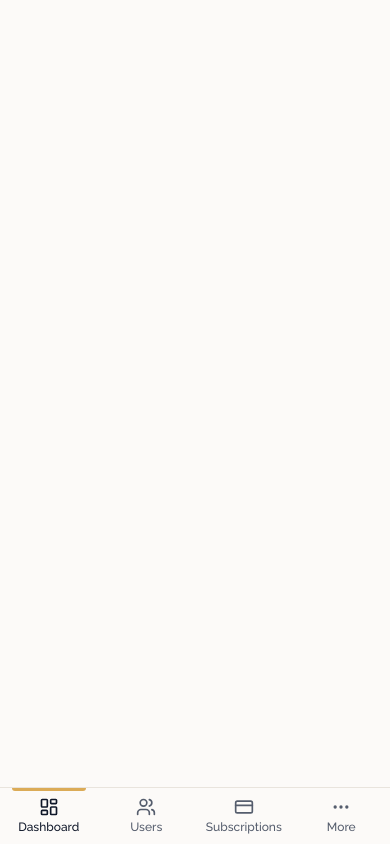
Test: AdminTabBar › opens a dialog listing the remaining items and returns focus to More on Escape
The width and height of the screenshot is (390, 844).
Step 1. Click the button "More" → [341, 816], box [292,788,389,843]
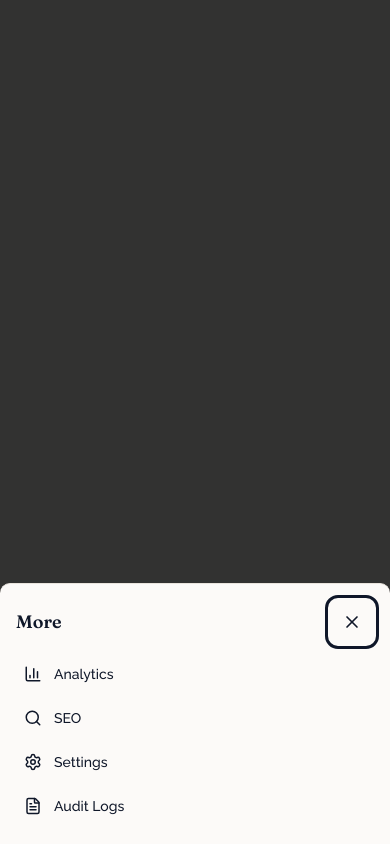
Step 2. Press Escape
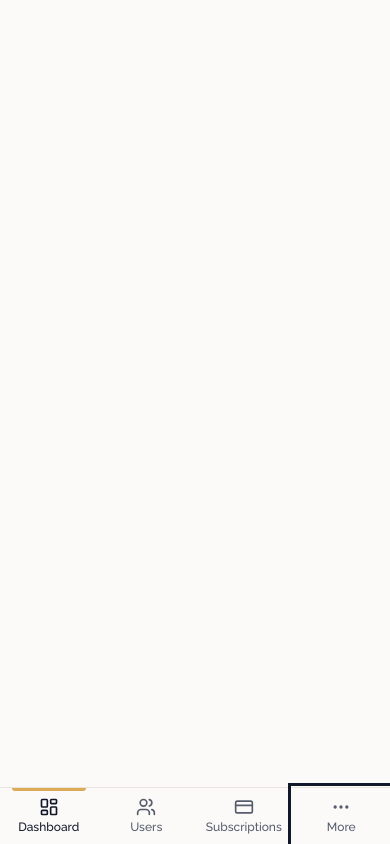
Result: the dialog is gone
